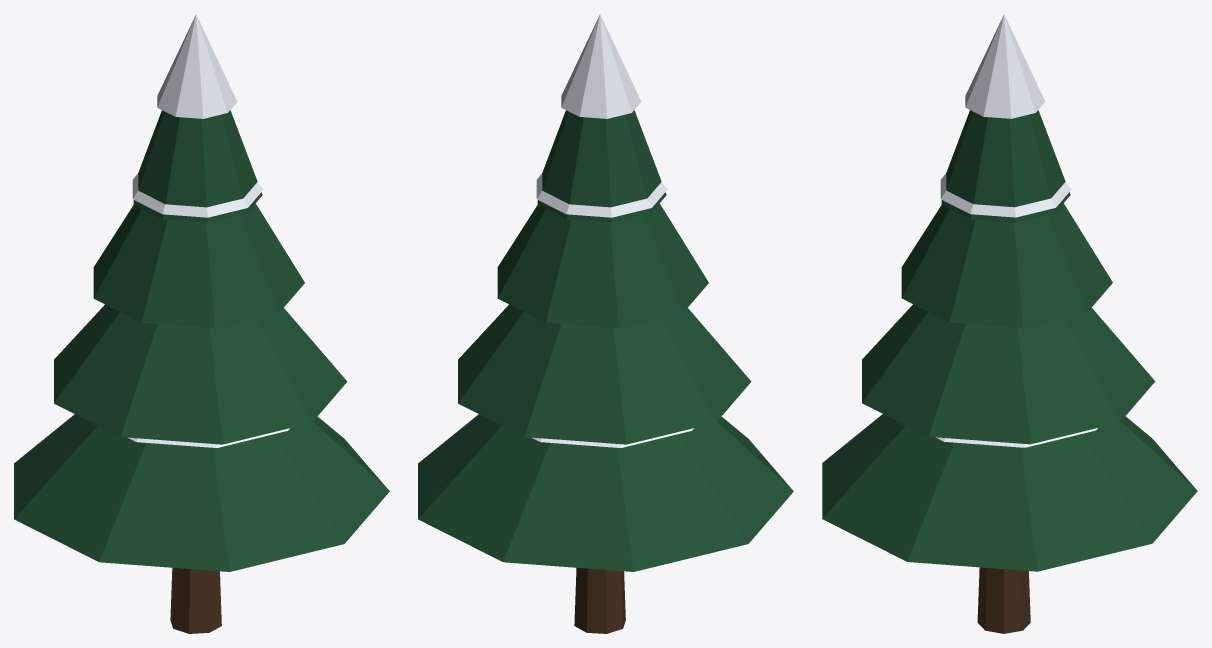
Rendered from snow_pine.glb.
3 renders of one model, left to right at view 1: azimuth 30°, elevation 25°; view 2: azimuth 150°, elevation 25°; view 3: azimuth 270°, elevation 25°, orthographic.
Parts seen in each view (by area): view 1: SnowPineMesh; view 2: SnowPineMesh; view 3: SnowPineMesh.
Part boxes in pixels (x1,y1,x2,y2): SnowPineMesh: (14, 14, 389, 633); SnowPineMesh: (418, 14, 793, 633); SnowPineMesh: (822, 14, 1197, 633).
Bounding box in the file's own units: 3.15 × 5.55 × 3.1.
